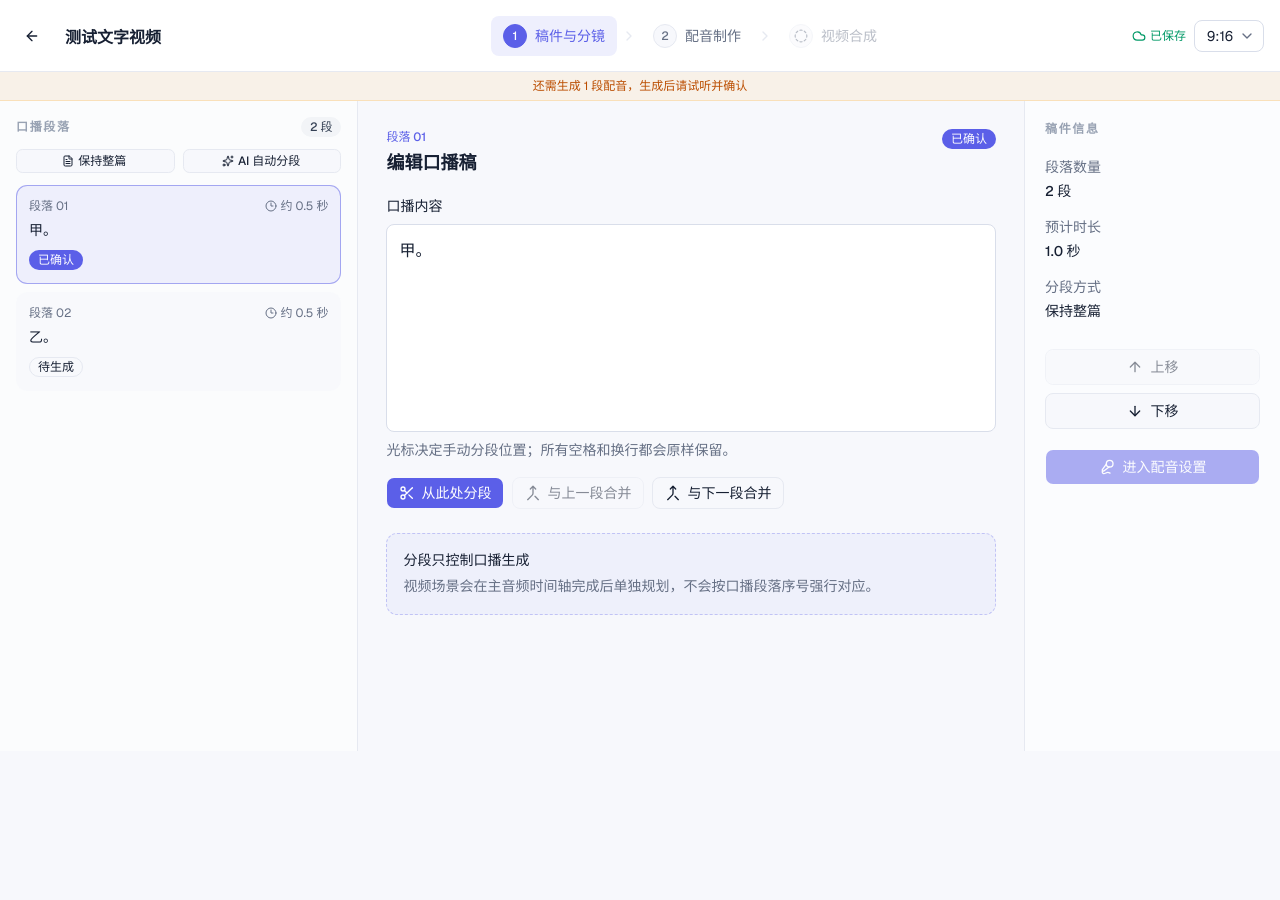
it: TextVideoWorkbench › keeps video composition locked until speech and master audio are ready
expect the tab "视频合成" is disabled: met, box [777,16,889,56]
expect the text "还需生成 1 段配音，生成后请试听并确认" is shown: met, box [0,72,1279,101]
Click the tab "2 配音制作" at (697, 36), box [641,16,753,56]
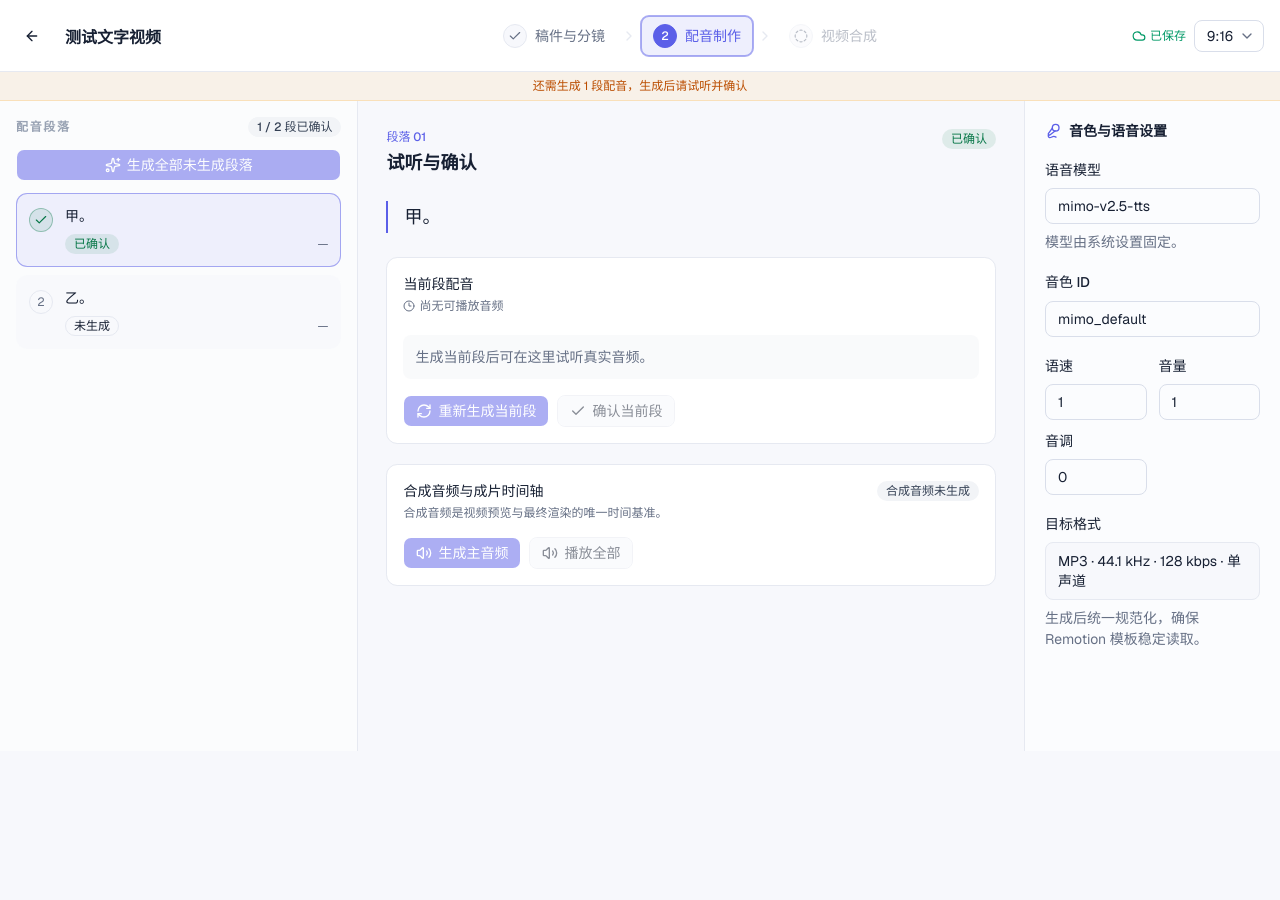
expect the text "1 / 2 段已确认" is shown: met, box [248,117,341,137]
